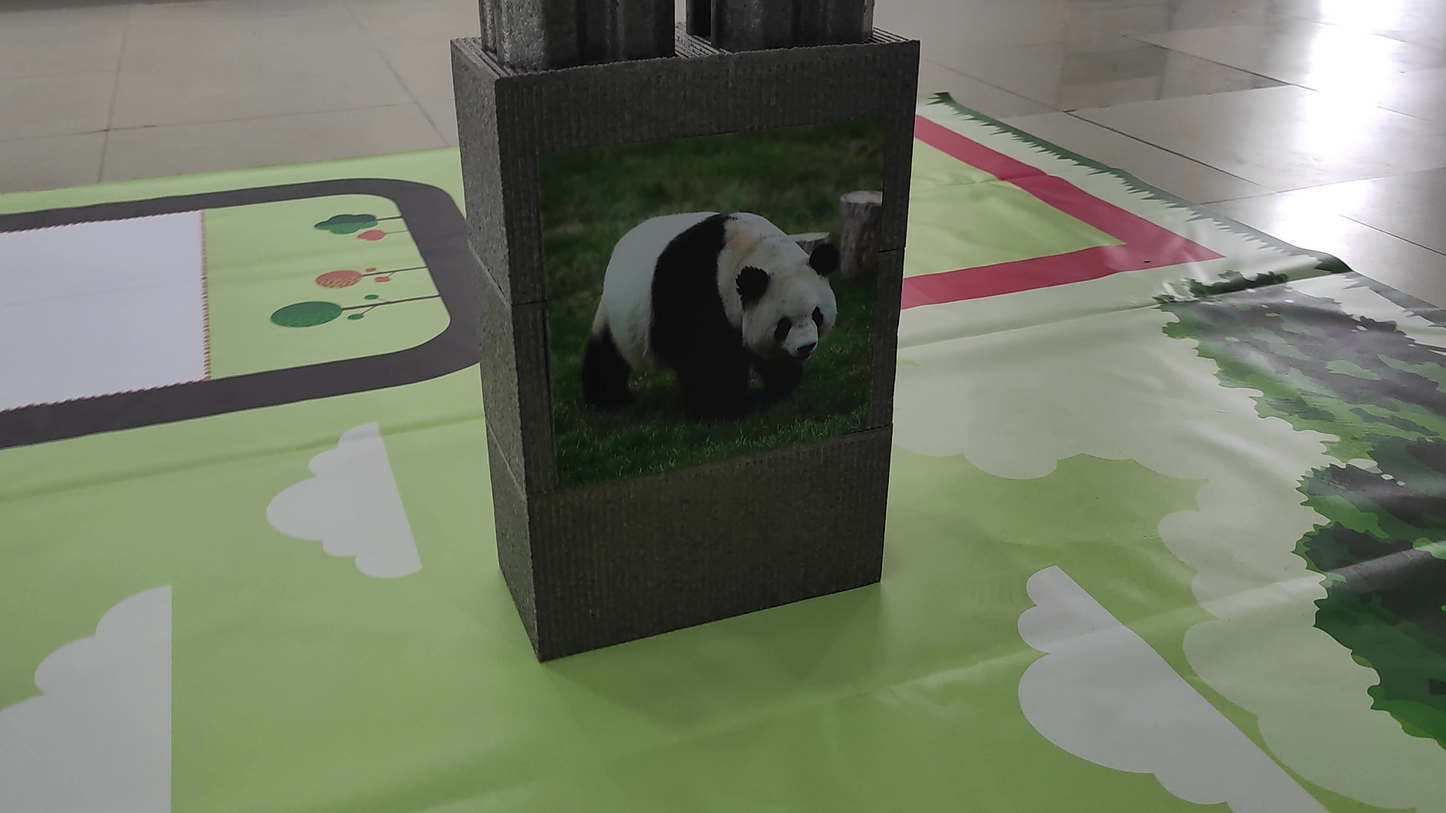panda: (563, 192, 845, 428)
